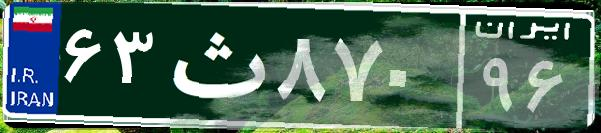0: (385, 28, 445, 110)
3: (110, 28, 158, 105)
6: (57, 26, 110, 107), (525, 38, 570, 115)
7: (330, 28, 385, 110)
8: (273, 28, 330, 110)
9: (475, 38, 525, 113)
ث: (158, 15, 273, 115)
